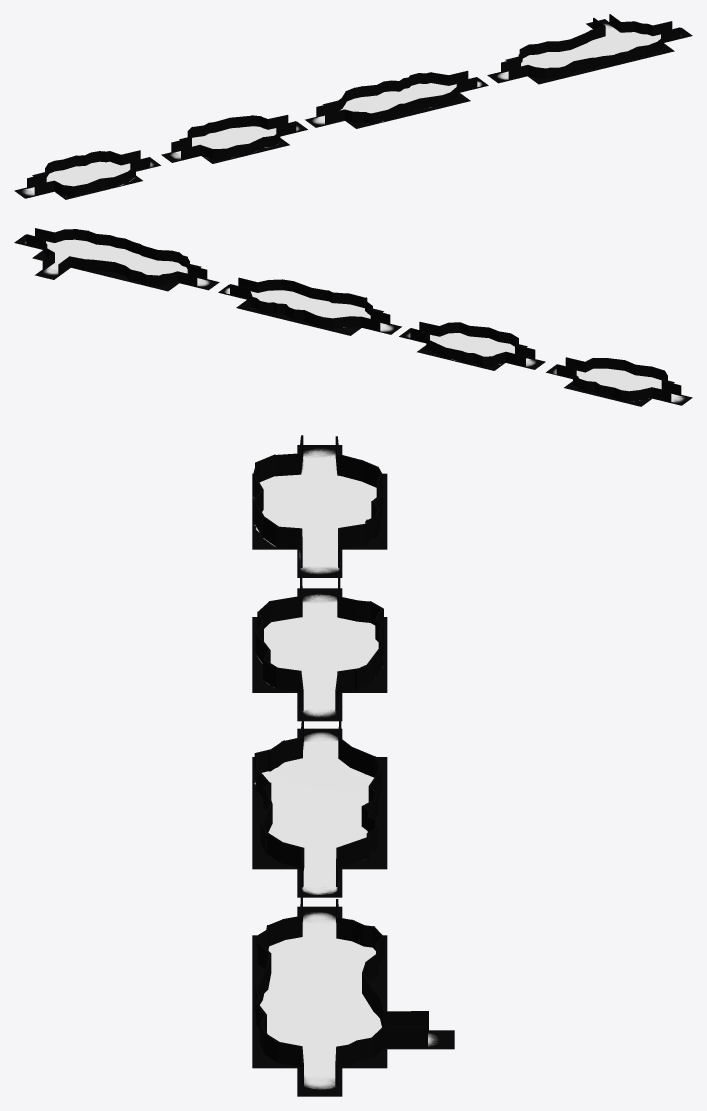
Rendered from map 1~4.fbx.
The picture shows the model from 3 angles, top to bottom: view 1: azimuth 30°, elevation 25°; view 2: azimuth 150°, elevation 25°; view 3: azimuth 270°, elevation 25°; orthographic projection. The views are drawn at different scales.
Visible parts, largest first — view 1: map4 cage, map3 cage, map 4, map2 cage, map1 cage, map 3, map 2, map 1; view 2: map4 cage, map3 cage, map 4, map1 cage, map2 cage, map 3, map 1, map 2; view 3: map 4, map 3, map 2, map 1, map4 cage, map3 cage, map1 cage, map2 cage.
Boxes of the visible parts, x1=… form: map4 cage: x1=501, y1=14, x2=680, y2=79; map3 cage: x1=316, y1=70, x2=477, y2=124; map 4: x1=487, y1=19, x2=692, y2=84; map2 cage: x1=171, y1=115, x2=296, y2=159; map1 cage: x1=27, y1=150, x2=150, y2=196; map 3: x1=305, y1=77, x2=488, y2=128; map 2: x1=161, y1=121, x2=307, y2=163; map 1: x1=14, y1=157, x2=160, y2=199; map4 cage: x1=26, y1=228, x2=207, y2=286; map3 cage: x1=230, y1=277, x2=390, y2=331; map 4: x1=14, y1=234, x2=219, y2=291; map1 cage: x1=556, y1=357, x2=681, y2=401; map2 cage: x1=410, y1=322, x2=535, y2=367; map 3: x1=218, y1=284, x2=401, y2=335; map 1: x1=546, y1=364, x2=692, y2=406; map 2: x1=399, y1=328, x2=545, y2=370; map 4: x1=252, y1=906, x2=454, y2=1096; map 3: x1=252, y1=728, x2=387, y2=897; map 2: x1=252, y1=588, x2=387, y2=721; map 1: x1=252, y1=445, x2=387, y2=577; map4 cage: x1=254, y1=897, x2=428, y2=1085; map3 cage: x1=254, y1=719, x2=382, y2=887; map1 cage: x1=252, y1=435, x2=382, y2=567; map2 cage: x1=255, y1=577, x2=383, y2=710.
Size of the model in its own units: 6860 by 100 by 900.
